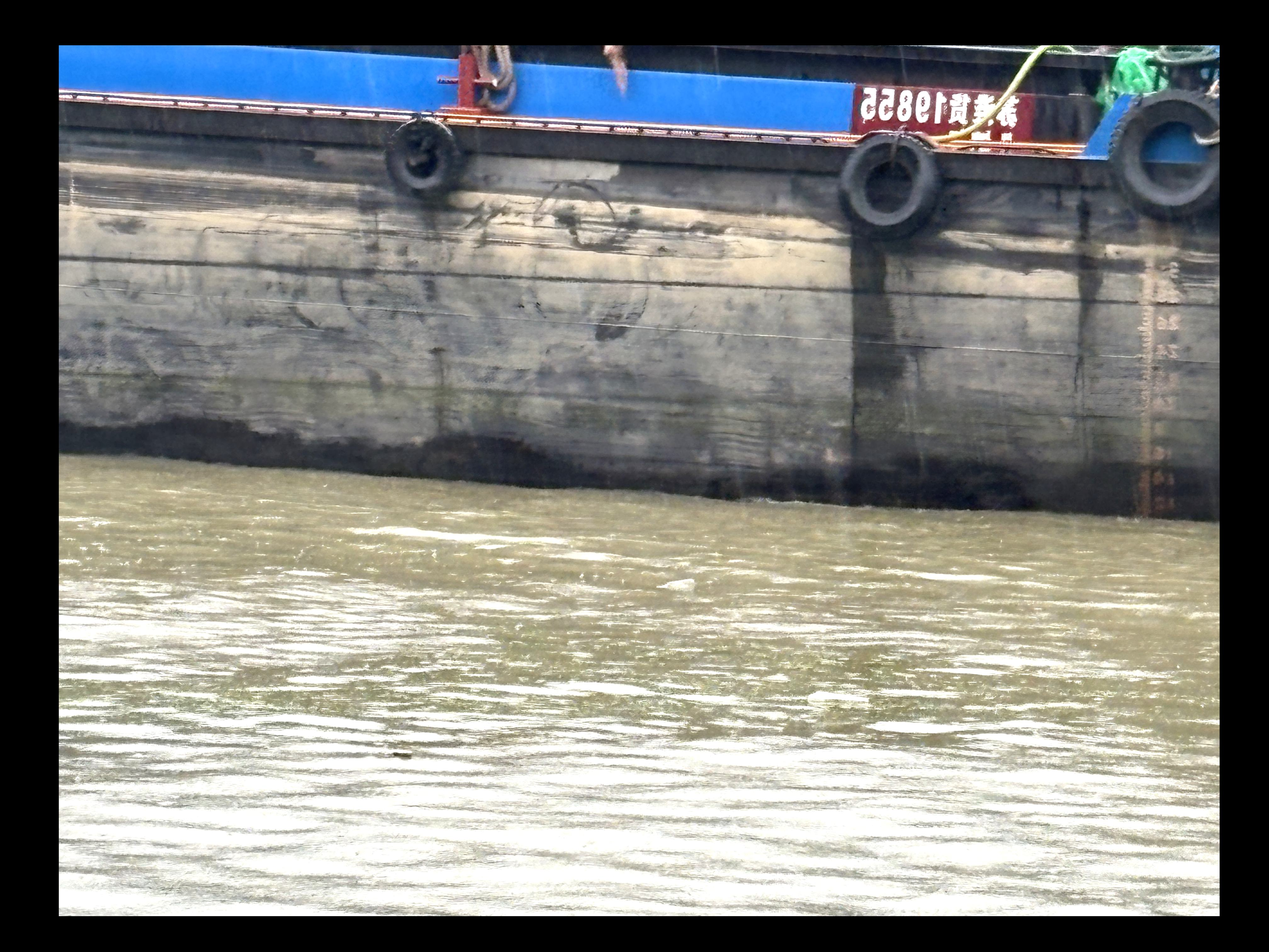Plastic wastes: (804, 689, 873, 704), (661, 575, 696, 591), (396, 743, 415, 755)
